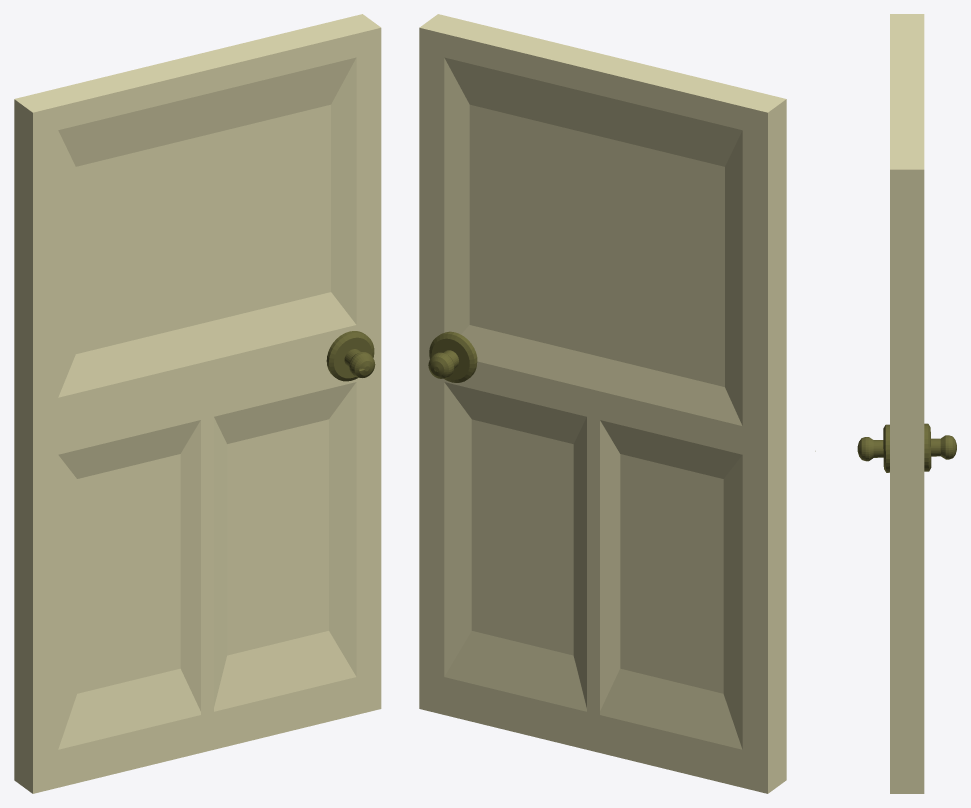
File: HouseDoor.fbx
The picture shows the model from 3 angles, left to right: view 1: azimuth 30°, elevation 25°; view 2: azimuth 150°, elevation 25°; view 3: azimuth 270°, elevation 25°; orthographic projection. The views are drawn at different scales.
Visible parts, largest first — view 1: Cube, Cylinder.001; view 2: Cube, Cylinder; view 3: Cube, Cylinder, Cylinder.001.
Boxes of the visible parts, x1,y1,x2,y2 form: Cube: [14, 14, 381, 793]; Cylinder.001: [326, 331, 375, 381]; Cube: [419, 14, 786, 793]; Cylinder: [428, 331, 477, 382]; Cube: [890, 14, 924, 793]; Cylinder: [815, 423, 956, 471]; Cylinder.001: [857, 424, 889, 472].
Size of the model in its own units: 551 by 1029 by 212.
